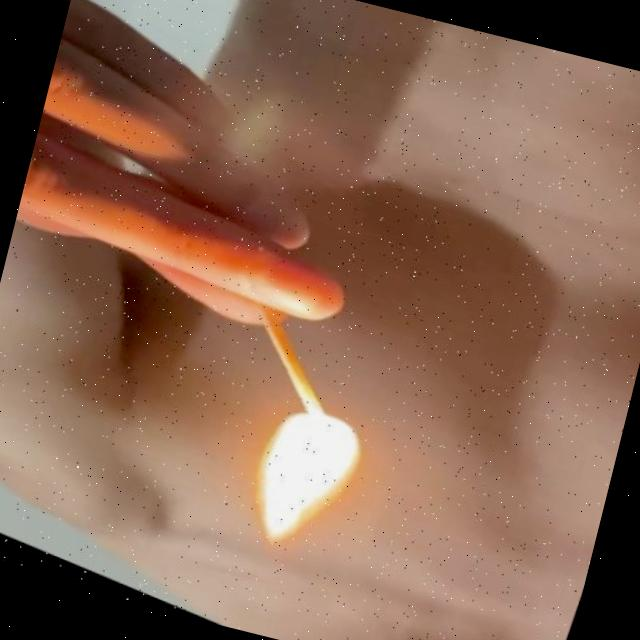fire: (226, 387, 386, 578)
